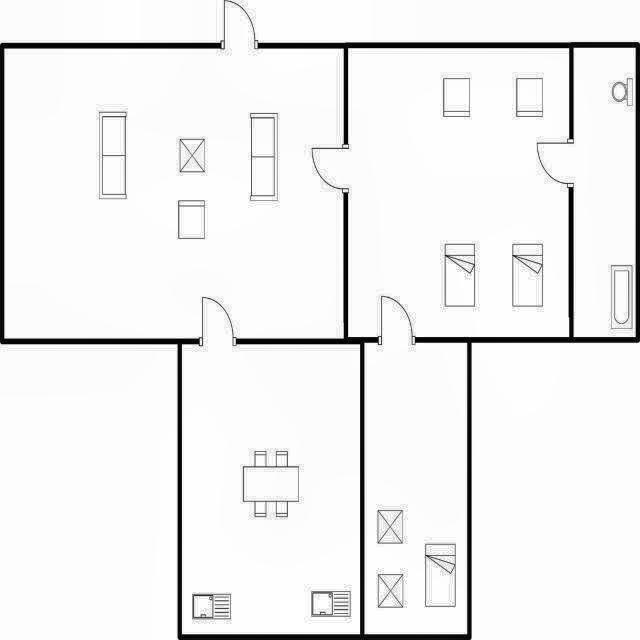room: (4, 49, 344, 338), (349, 49, 569, 336), (183, 345, 360, 634), (365, 342, 467, 634), (574, 48, 635, 338)
